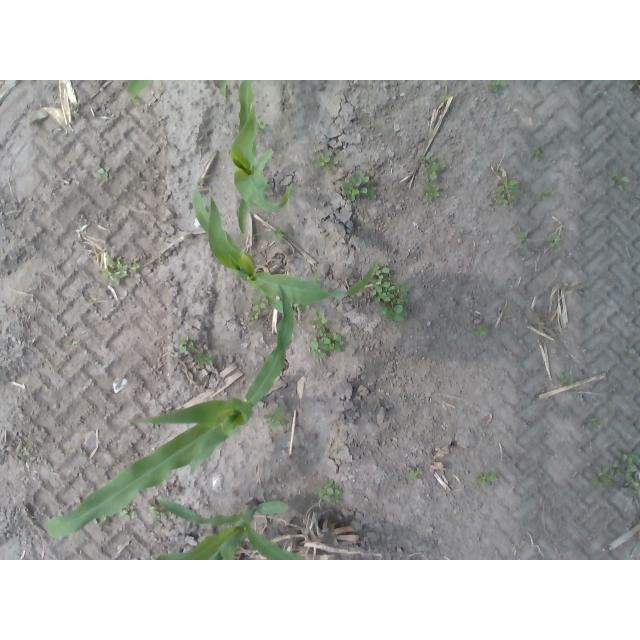Maize: (47, 282, 295, 539), (190, 187, 374, 316), (230, 81, 292, 236), (148, 497, 300, 560), (122, 80, 231, 104)
Weeds: (340, 172, 371, 201), (311, 333, 346, 355), (493, 178, 519, 207), (616, 450, 638, 483), (371, 282, 398, 302), (191, 345, 214, 368), (316, 482, 340, 502), (422, 155, 440, 181), (594, 464, 615, 486), (316, 152, 336, 173), (105, 258, 119, 283), (265, 407, 283, 425), (384, 303, 404, 317), (178, 331, 190, 354), (610, 175, 628, 190), (424, 187, 441, 200), (375, 265, 390, 279), (253, 298, 268, 311), (491, 81, 508, 92), (97, 166, 112, 178), (121, 510, 135, 522), (271, 228, 282, 243), (117, 263, 128, 277), (518, 231, 530, 243), (406, 468, 422, 477), (561, 371, 571, 385), (530, 150, 542, 161), (124, 264, 140, 272), (397, 296, 411, 305), (477, 474, 488, 485), (401, 285, 412, 295), (477, 325, 487, 335), (250, 312, 261, 321), (315, 314, 324, 325), (542, 188, 550, 200), (318, 328, 327, 337), (258, 120, 266, 130), (551, 237, 560, 245), (488, 473, 497, 481), (22, 448, 31, 456), (591, 419, 602, 425), (68, 339, 77, 346), (399, 280, 406, 286)
